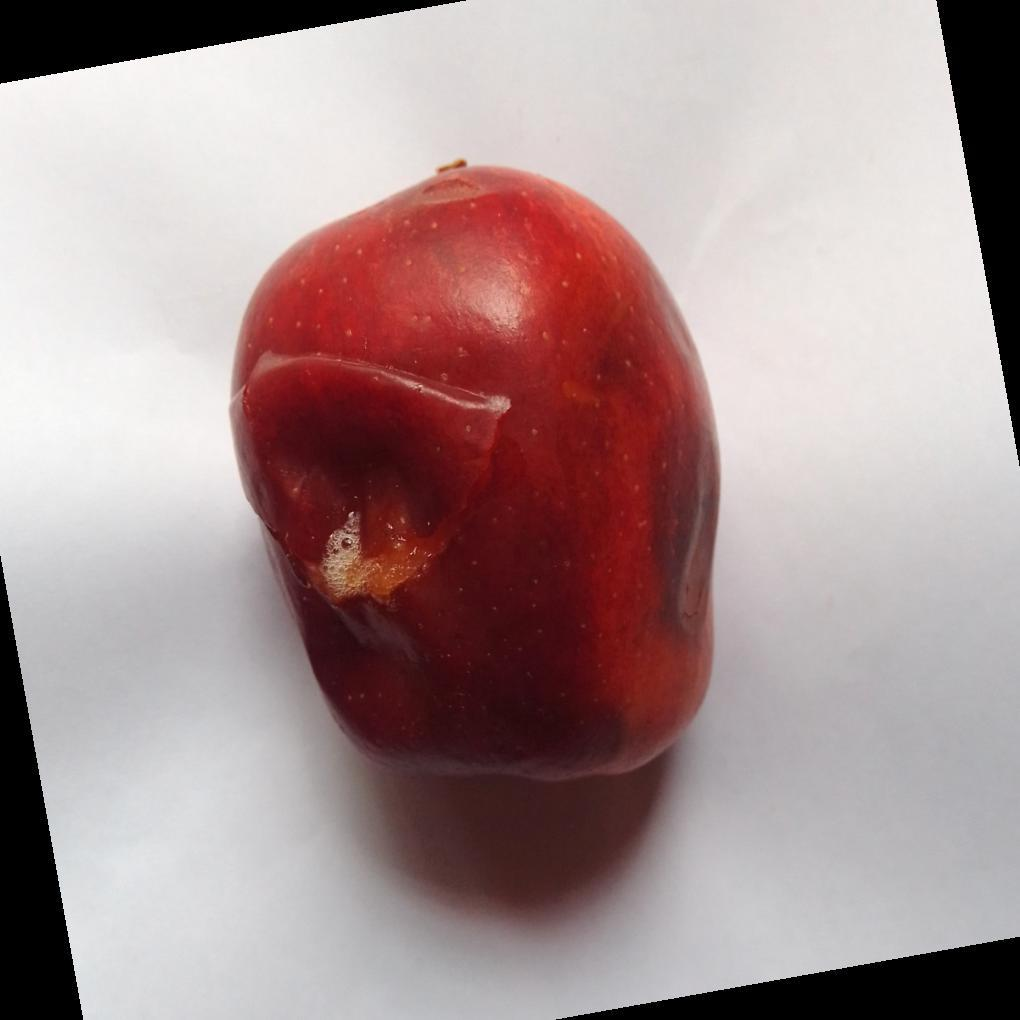FreshOrange: (228, 164, 722, 790)
